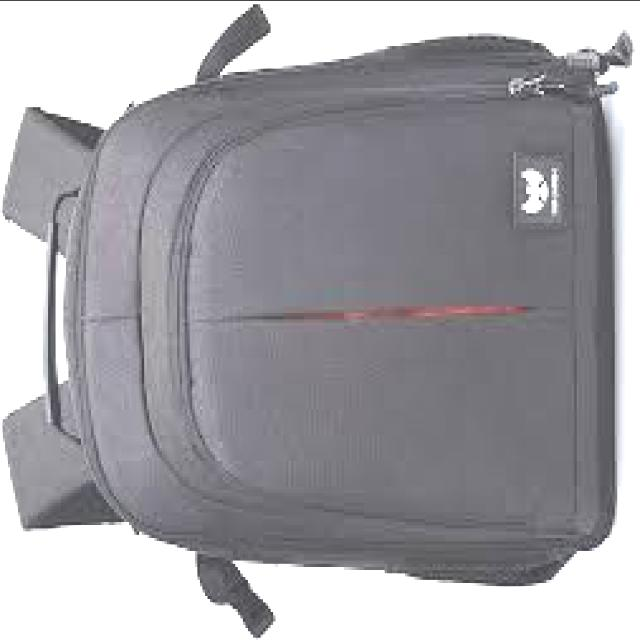backpack: (1, 4, 631, 640)
